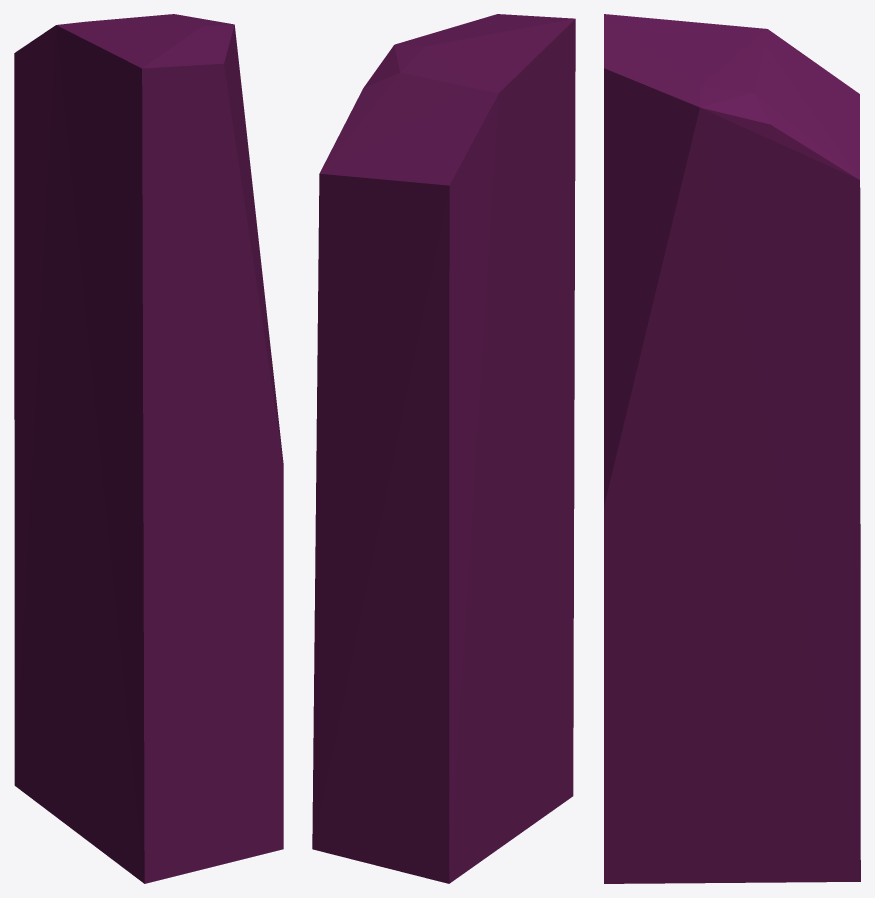
3 renders of one model, left to right at view 1: azimuth 30°, elevation 25°; view 2: azimuth 150°, elevation 25°; view 3: azimuth 270°, elevation 25°, orthographic. The views are drawn at different scales.
Bounding box in the file's own units: 2.68 × 14.08 × 4.08.
